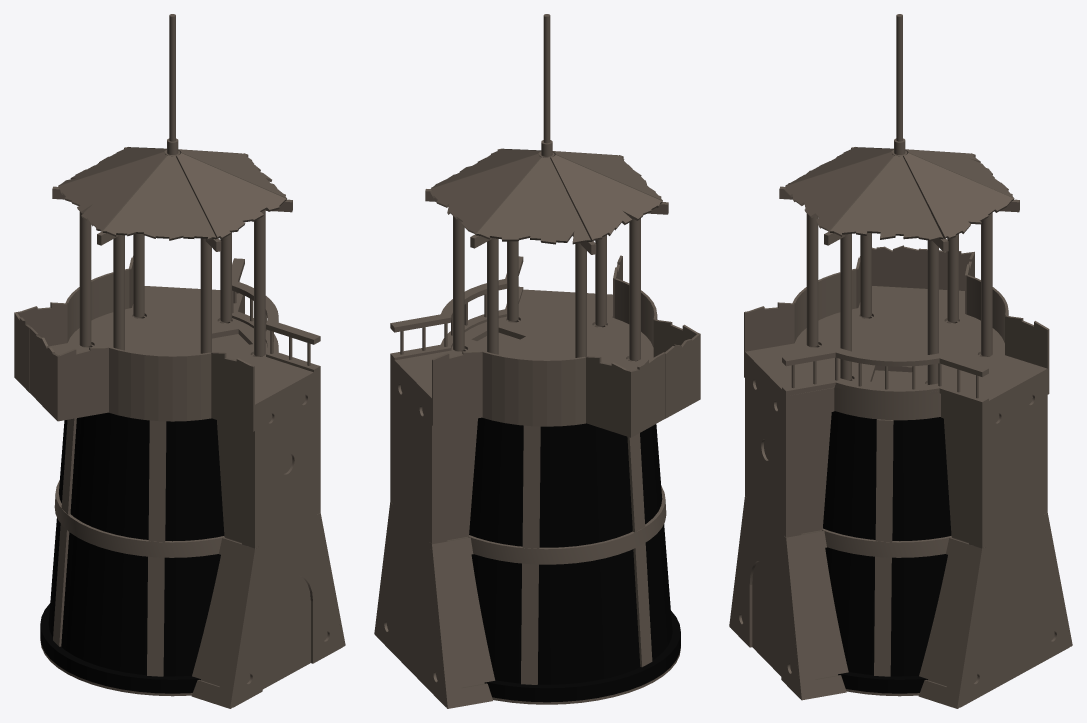
The picture shows the model from 3 angles, left to right: view 1: azimuth 30°, elevation 25°; view 2: azimuth 150°, elevation 25°; view 3: azimuth 270°, elevation 25°; orthographic projection.
Parts seen in each view (by area): view 1: mesh1_mesh1-geometry, mesh134_mesh134-geometry, mesh165_mesh165-geometry, mesh119_mesh119-geometry, mesh112_mesh112-geometry, mesh117_mesh117-geometry, mesh97_mesh97-geometry, mesh127_mesh127-geometry, mesh99_mesh99-geometry, mesh123_mesh123-geometry, mesh150_mesh150-geometry, mesh93_mesh93-geometry (+12 smaller); view 2: mesh1_mesh1-geometry, mesh152_mesh152-geometry, mesh165_mesh165-geometry, mesh119_mesh119-geometry, mesh112_mesh112-geometry, mesh117_mesh117-geometry, mesh95_mesh95-geometry, mesh115_mesh115-geometry, mesh93_mesh93-geometry, mesh123_mesh123-geometry, mesh150_mesh150-geometry, mesh103_mesh103-geometry (+12 smaller); view 3: mesh1_mesh1-geometry, mesh152_mesh152-geometry, mesh165_mesh165-geometry, mesh134_mesh134-geometry, mesh112_mesh112-geometry, mesh123_mesh123-geometry, mesh150_mesh150-geometry, mesh125_mesh125-geometry, mesh148_mesh148-geometry, mesh101_mesh101-geometry, mesh117_mesh117-geometry, mesh103_mesh103-geometry (+14 smaller).
Part boxes in pixels (bbox=[...]): mesh1_mesh1-geometry: bbox=[40, 412, 224, 693]; mesh134_mesh134-geometry: bbox=[233, 373, 342, 707]; mesh165_mesh165-geometry: bbox=[48, 286, 320, 406]; mesh119_mesh119-geometry: bbox=[65, 269, 211, 421]; mesh112_mesh112-geometry: bbox=[79, 210, 265, 356]; mesh117_mesh117-geometry: bbox=[17, 256, 254, 431]; mesh97_mesh97-geometry: bbox=[103, 155, 216, 240]; mesh127_mesh127-geometry: bbox=[246, 575, 327, 689]; mesh99_mesh99-geometry: bbox=[176, 153, 286, 239]; mesh123_mesh123-geometry: bbox=[192, 513, 343, 707]; mesh150_mesh150-geometry: bbox=[191, 513, 345, 708]; mesh93_mesh93-geometry: bbox=[58, 152, 167, 232]; mesh1_mesh1-geometry: bbox=[469, 417, 680, 702]; mesh152_mesh152-geometry: bbox=[376, 361, 445, 706]; mesh165_mesh165-geometry: bbox=[390, 289, 653, 400]; mesh119_mesh119-geometry: bbox=[482, 278, 657, 426]; mesh112_mesh112-geometry: bbox=[453, 216, 640, 360]; mesh117_mesh117-geometry: bbox=[432, 255, 697, 436]; mesh95_mesh95-geometry: bbox=[476, 157, 590, 244]; mesh115_mesh115-geometry: bbox=[628, 333, 700, 437]; mesh93_mesh93-geometry: bbox=[550, 155, 662, 241]; mesh123_mesh123-geometry: bbox=[375, 503, 495, 707]; mesh150_mesh150-geometry: bbox=[374, 502, 493, 708]; mesh103_mesh103-geometry: bbox=[430, 154, 541, 234]; mesh1_mesh1-geometry: bbox=[823, 411, 951, 693]; mesh152_mesh152-geometry: bbox=[960, 373, 1069, 706]; mesh165_mesh165-geometry: bbox=[745, 286, 1047, 406]; mesh134_mesh134-geometry: bbox=[731, 357, 799, 697]; mesh112_mesh112-geometry: bbox=[806, 213, 992, 384]; mesh123_mesh123-geometry: bbox=[730, 497, 1070, 707]; mesh150_mesh150-geometry: bbox=[729, 496, 1072, 708]; mesh125_mesh125-geometry: bbox=[746, 356, 1045, 547]; mesh148_mesh148-geometry: bbox=[745, 354, 1047, 548]; mesh101_mesh101-geometry: bbox=[830, 155, 943, 241]; mesh117_mesh117-geometry: bbox=[744, 252, 1049, 394]; mesh103_mesh103-geometry: bbox=[903, 153, 1013, 239].
Size of the model in its own units: 0.3813 by 0.8275 by 0.4122.
